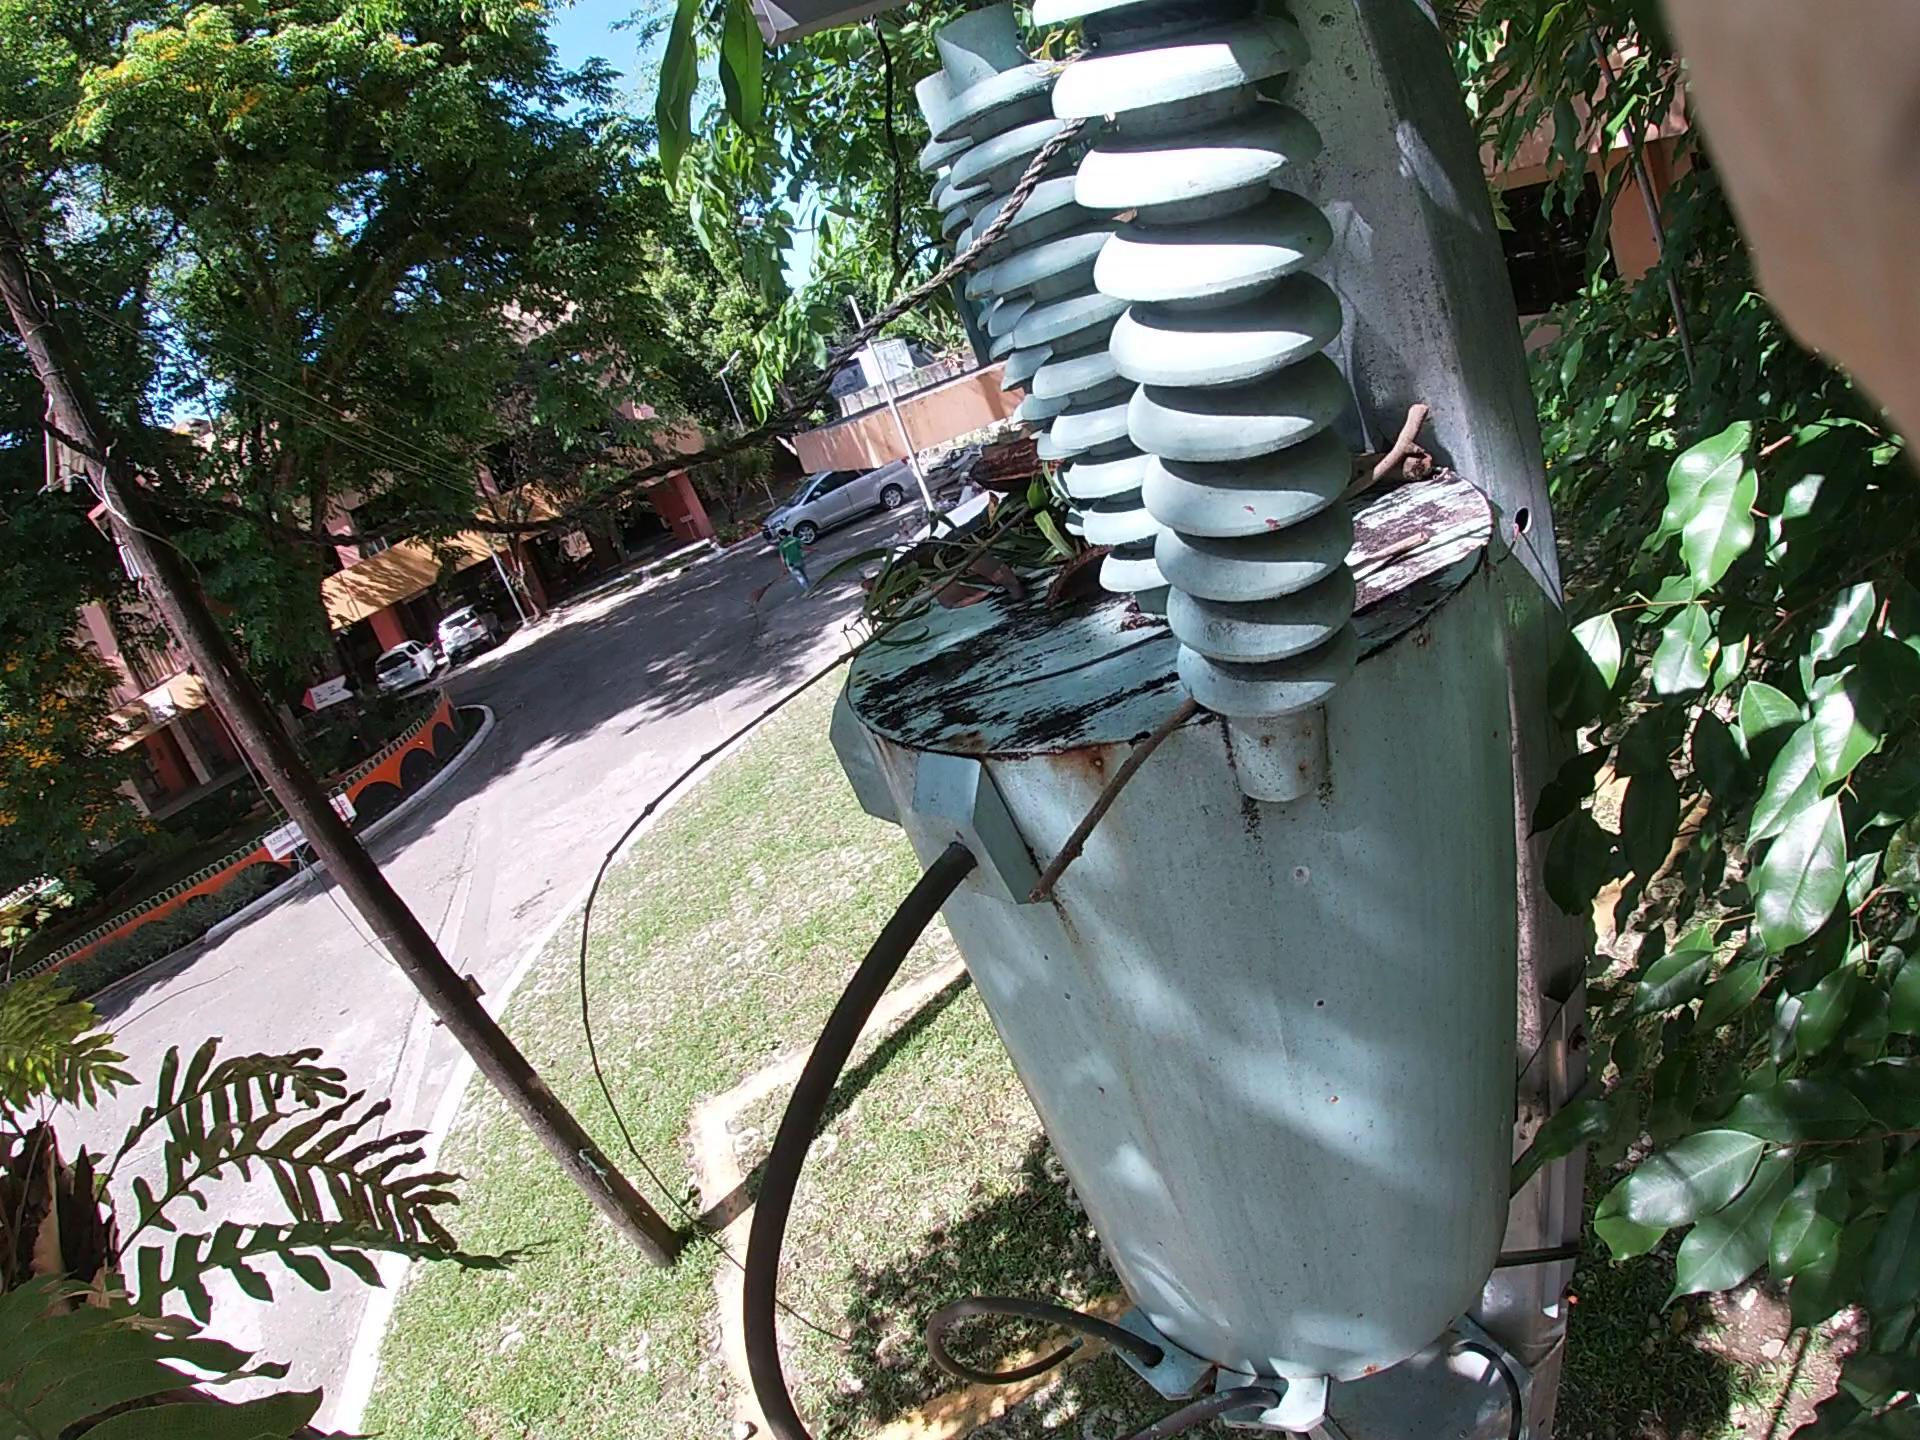branch with leaves: (835, 327, 1430, 641)
leaf: (954, 475, 1020, 655)
mahogany fruit: (1042, 529, 1237, 649), (915, 422, 1072, 510)
tree branch: (658, 517, 1123, 877), (1020, 513, 1423, 929), (1302, 377, 1454, 531)
